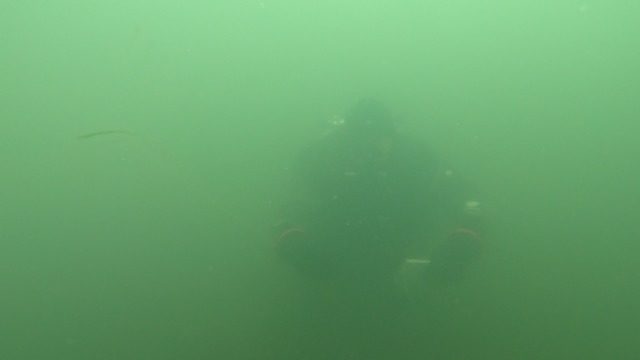Diver: (244, 75, 539, 331)
